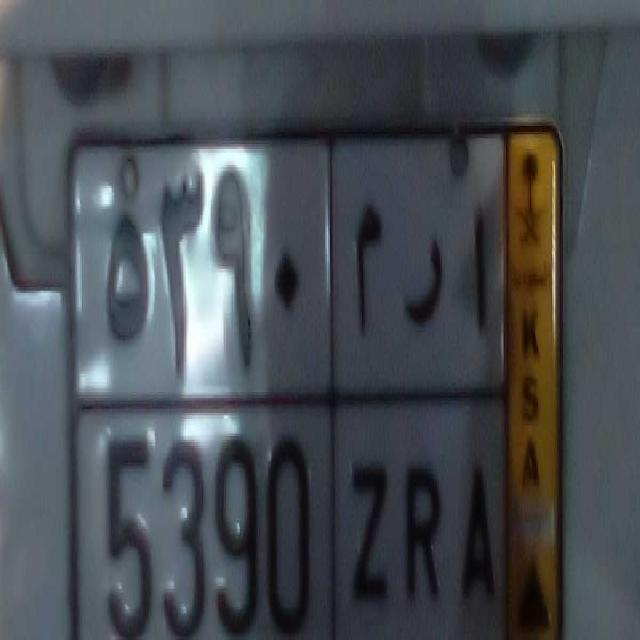license_plate: (69, 393, 504, 640)
